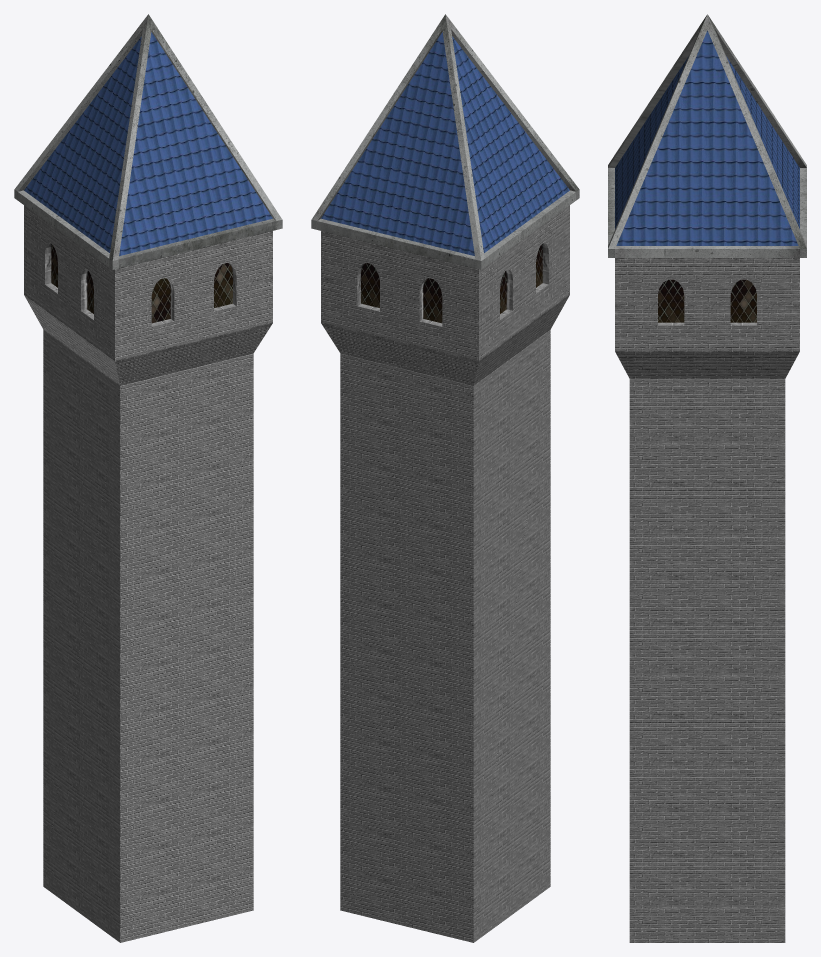
Rendered from HighTowerIndent.fbx.
3 renders of one model, left to right at view 1: azimuth 30°, elevation 25°; view 2: azimuth 150°, elevation 25°; view 3: azimuth 270°, elevation 25°, orthographic.
Parts seen in each view (by area): view 1: HightowerIndent; view 2: HightowerIndent; view 3: HightowerIndent.
Part boxes in pixels (left/top/right/bottom): HightowerIndent: left=14, top=14, right=282, bottom=942; HightowerIndent: left=311, top=14, right=579, bottom=942; HightowerIndent: left=608, top=14, right=806, bottom=942.
Bounding box in the file's own units: 602 × 2995 × 602.
